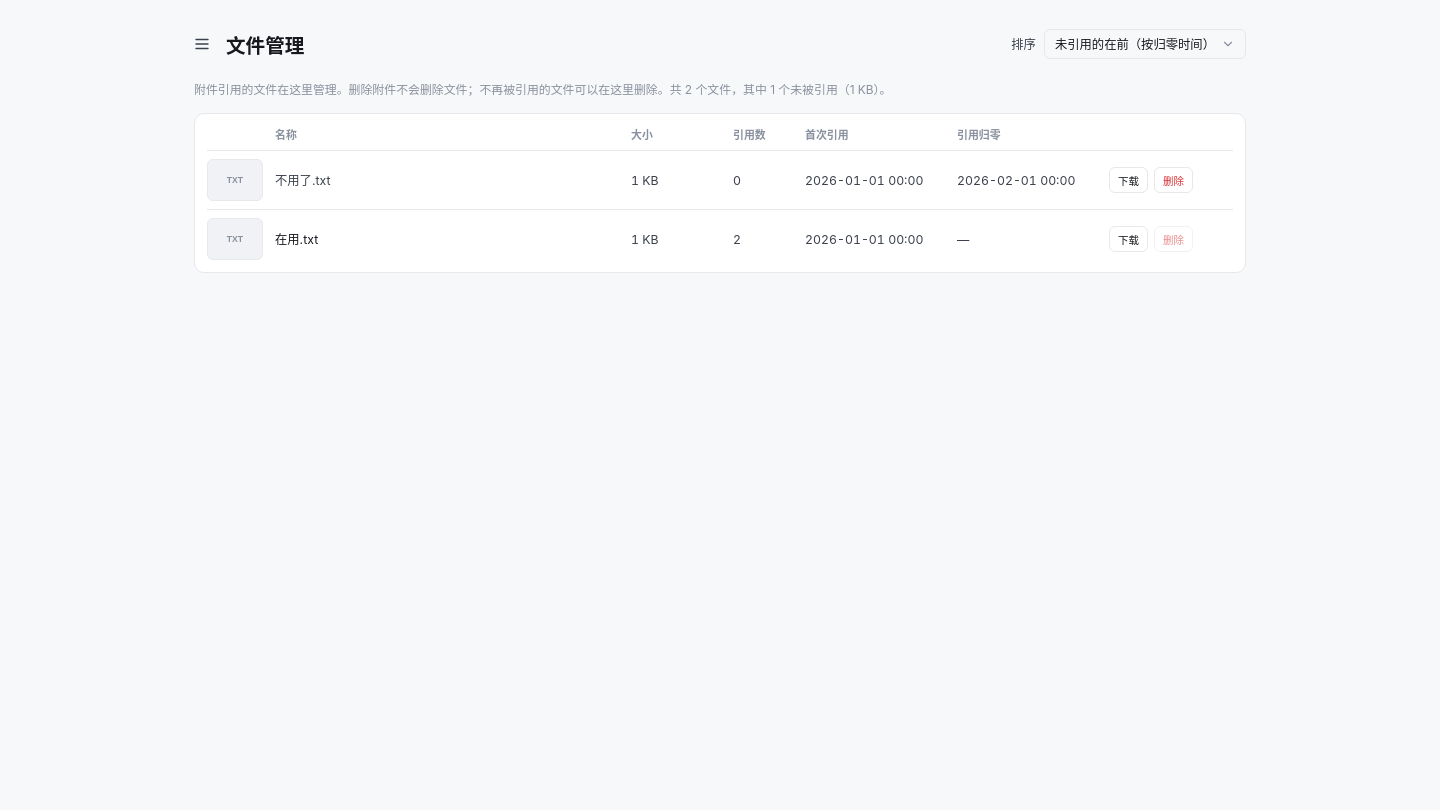
Scenario: FilesPage › 只有不再被引用的文件可以删除，删除后从列表中移除
Expected: the 2nd button "删除" is disabled, [1154,226,1193,252]
Expected: the button "不用了.txt" is shown, [275,171,619,189]
Click the button "删除" in the row of "2026-02-01 00:00" at (1173, 180), box [1154,167,1193,193]
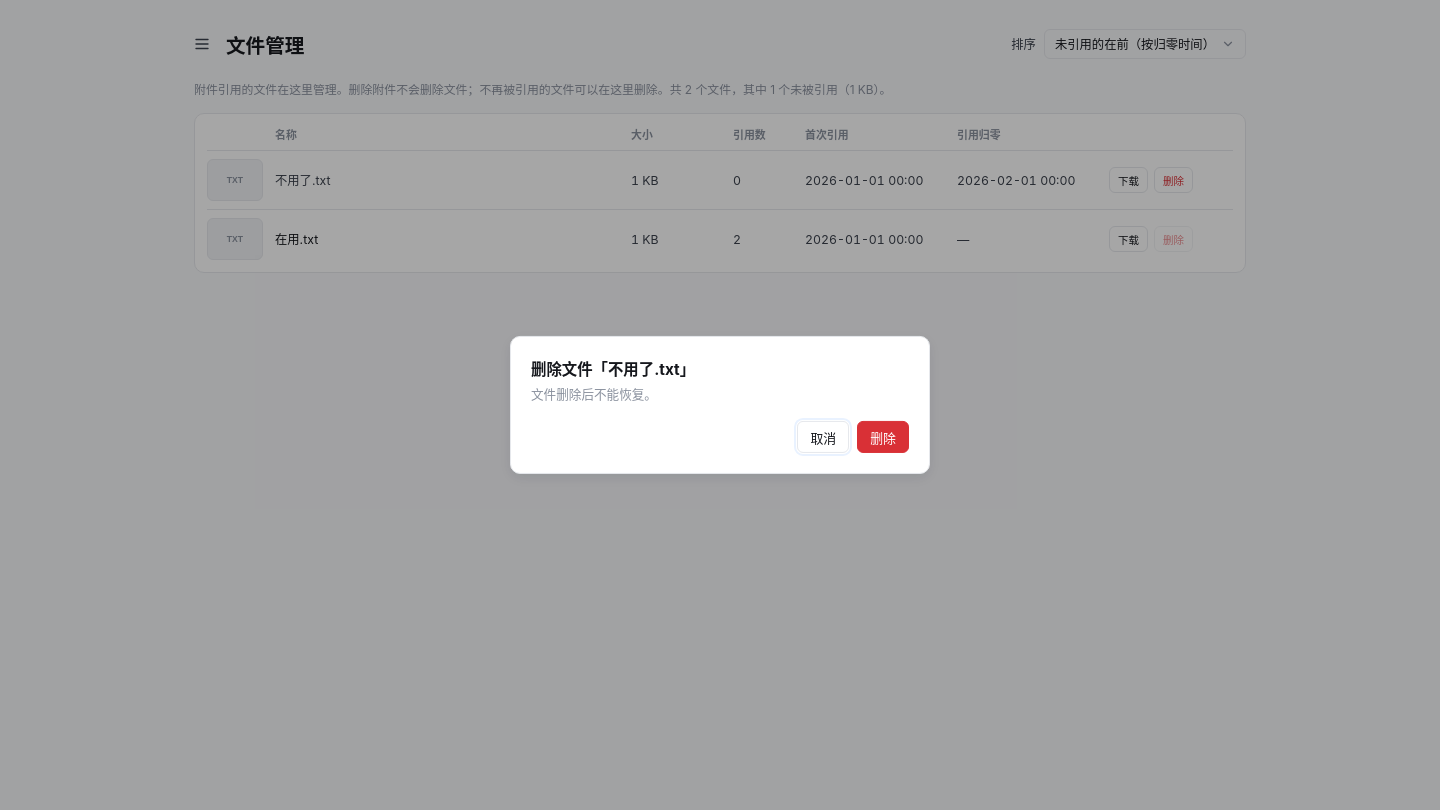
Click the button "删除" at (883, 437), box [857,421,909,453]
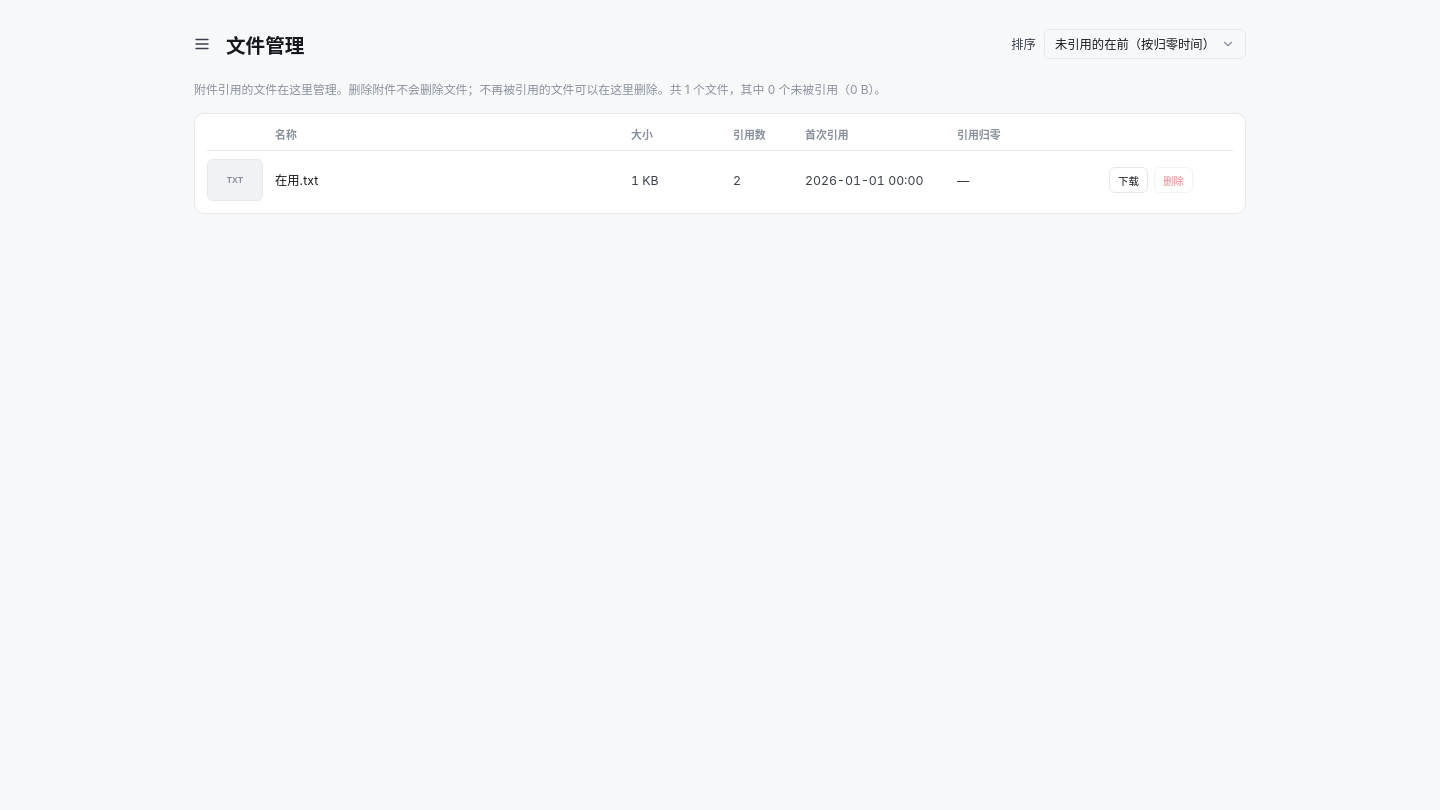
Expected: the button "不用了.txt" is gone
